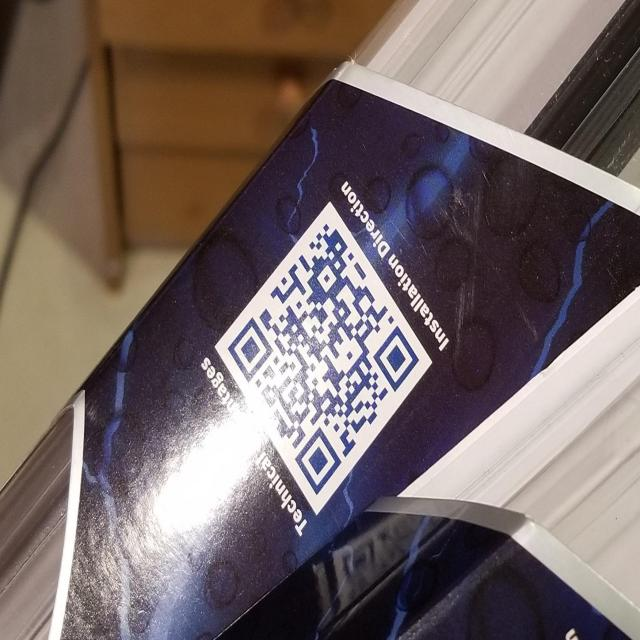QR_CODE: (221, 204, 425, 507)
